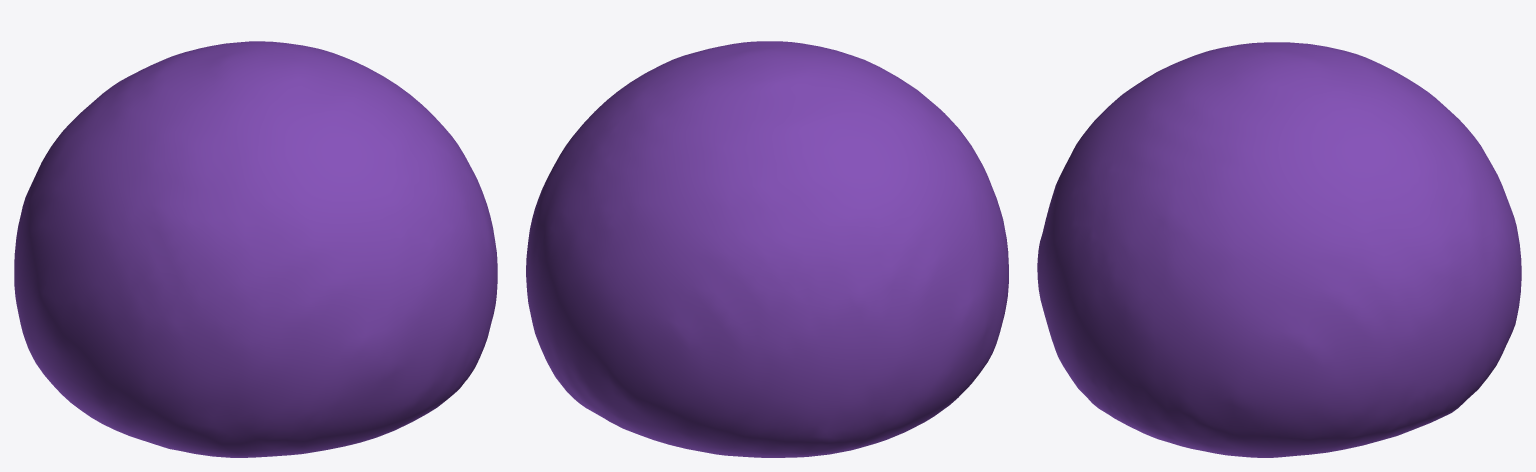
Rendered from slime_0011.dae.
The picture shows the model from 3 angles, left to right: view 1: azimuth 30°, elevation 25°; view 2: azimuth 150°, elevation 25°; view 3: azimuth 270°, elevation 25°; orthographic projection.
Visible parts, largest first — view 1: Slime; view 2: Slime; view 3: Slime.
Part boxes in pixels (x1=…): Slime: x1=14, y1=41, x2=497, y2=457; Slime: x1=526, y1=41, x2=1008, y2=457; Slime: x1=1037, y1=42, x2=1521, y2=457.
Size of the model in its own units: 2.06 by 1.78 by 2.06.
